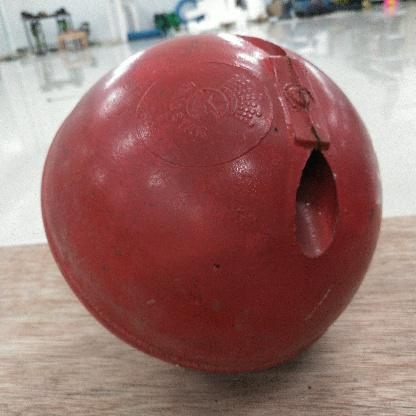red_buoy: (40, 28, 384, 380)
